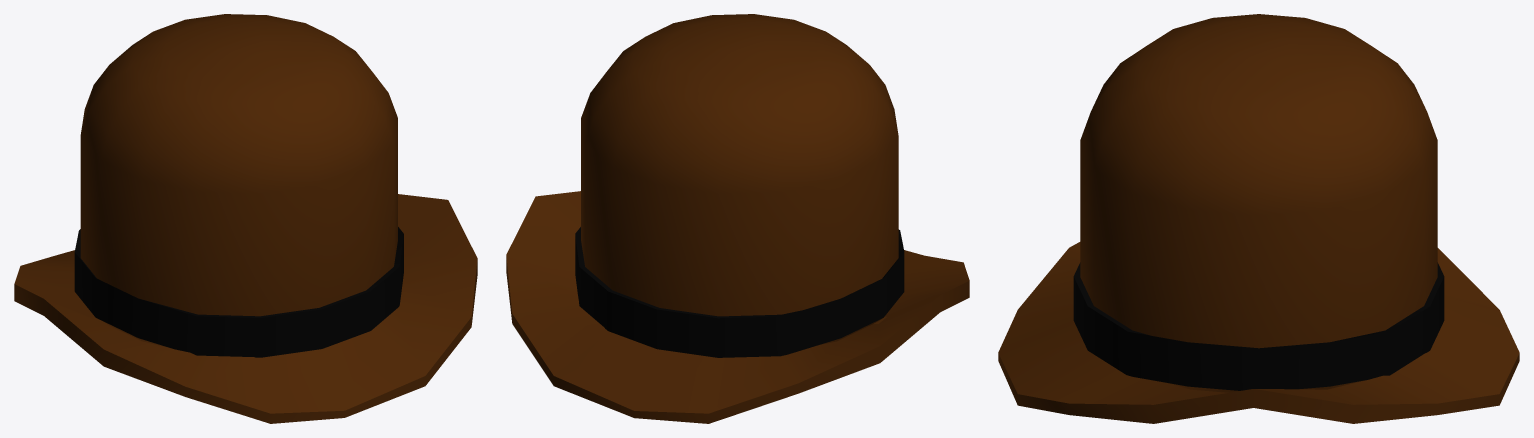
File: ChapeuCocoTamanhoCarro.fbx
3 renders of one model, left to right at view 1: azimuth 30°, elevation 25°; view 2: azimuth 150°, elevation 25°; view 3: azimuth 270°, elevation 25°, orthographic. The views are drawn at different scales.
Parts seen in each view (by area): view 1: ChapeuCocoTamanhoCarro; view 2: ChapeuCocoTamanhoCarro; view 3: ChapeuCocoTamanhoCarro.
Boxes of the visible parts, x1=… form: ChapeuCocoTamanhoCarro: x1=14, y1=14, x2=477, y2=423; ChapeuCocoTamanhoCarro: x1=506, y1=14, x2=969, y2=423; ChapeuCocoTamanhoCarro: x1=998, y1=14, x2=1519, y2=423.
Bounding box in the file's own units: 204 × 139 × 204.
